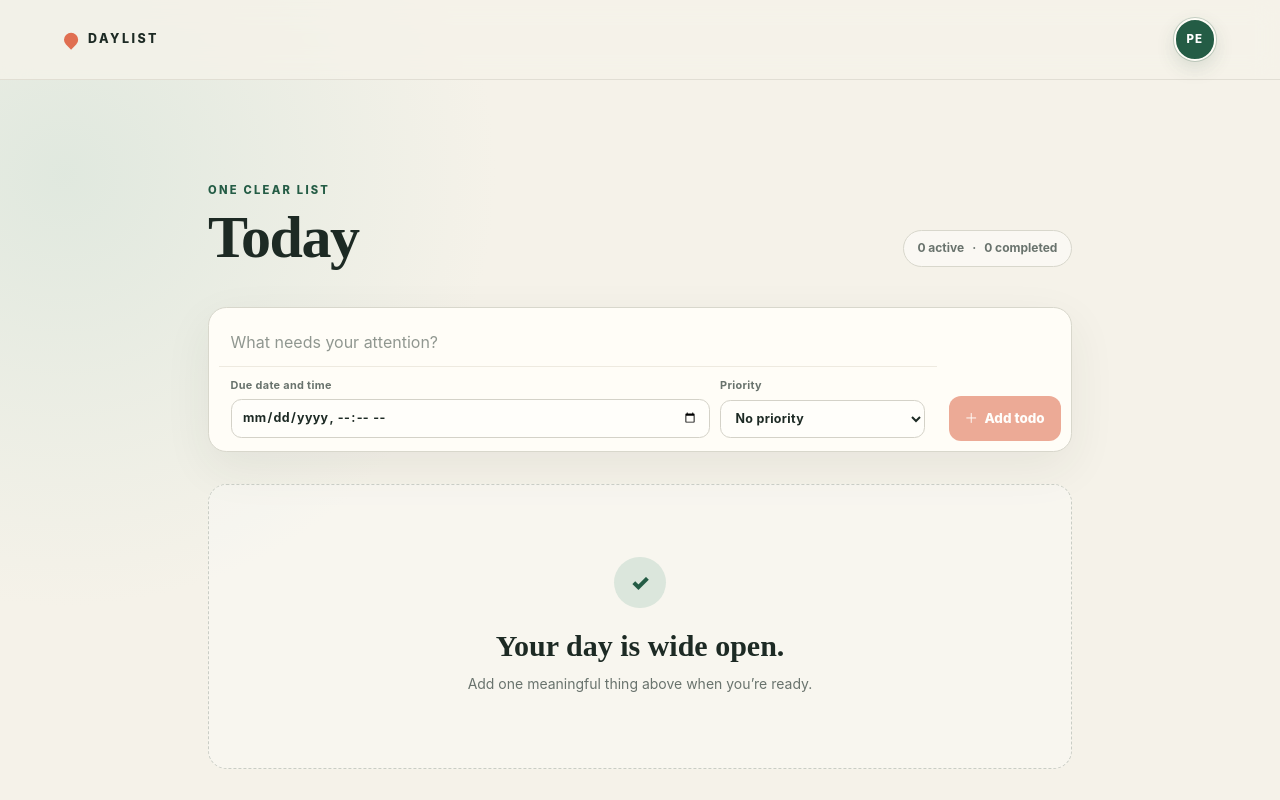
App › dismisses the account menu with Escape or an outside click
Click the button with aria-label "Account menu for person@example.com" at coordinates (1195, 40), box [1174,18,1216,61]
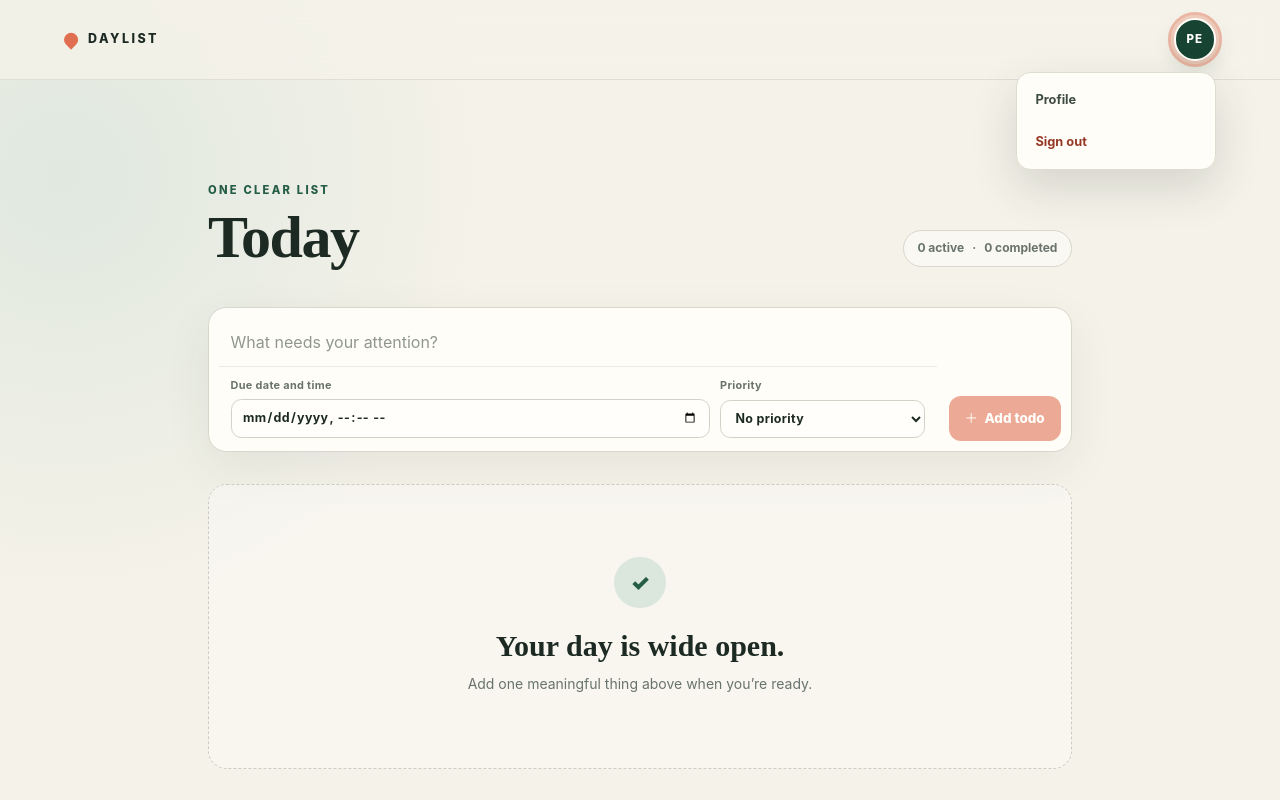
Expected: the menu is shown, [1017,73,1215,169]
Press Escape
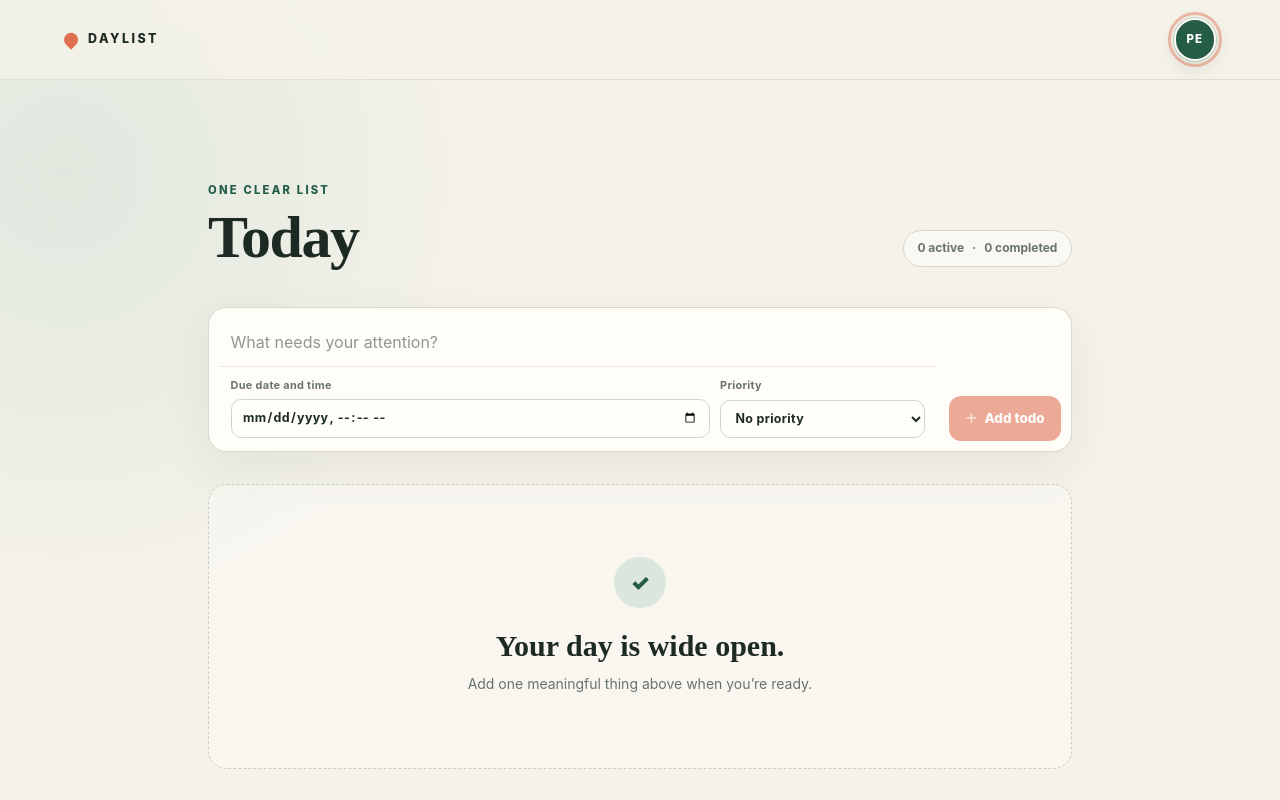
Expected: the menu is gone
Click the button with aria-label "Account menu for person@example.com" at coordinates (1195, 40), box [1174,18,1216,61]
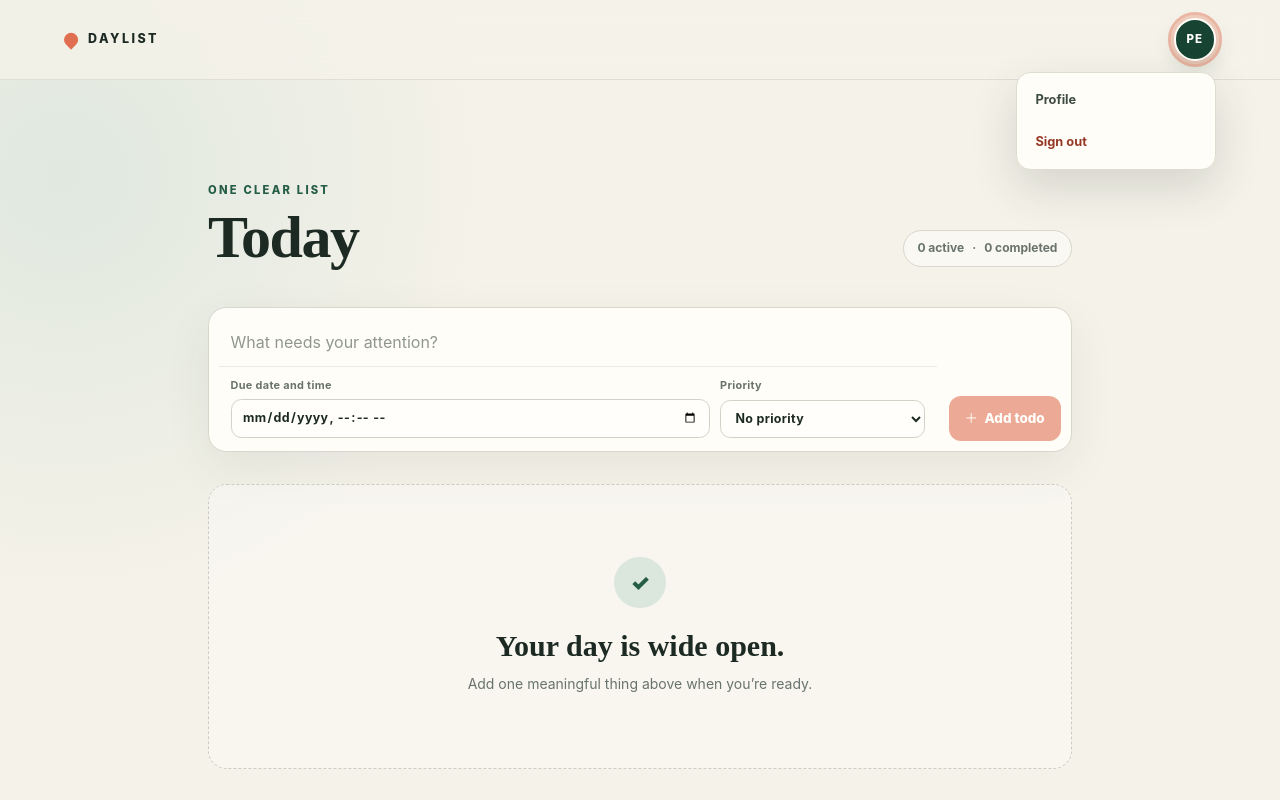
Click the heading "Today" at coordinates (283, 237), box [208,207,358,267]
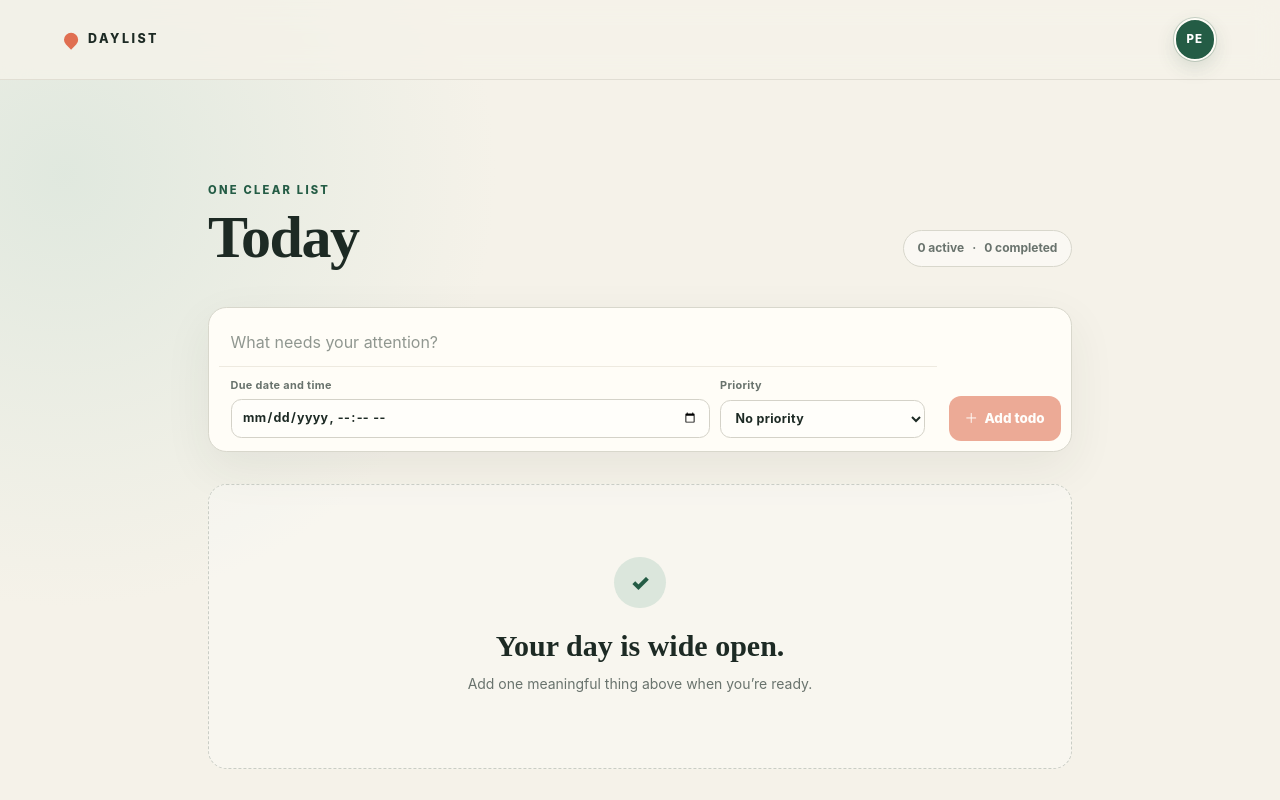
Expected: the menu is gone
Expected: the button with aria-label "Account menu for person@example.com" is collapsed, [1174,18,1216,61]
